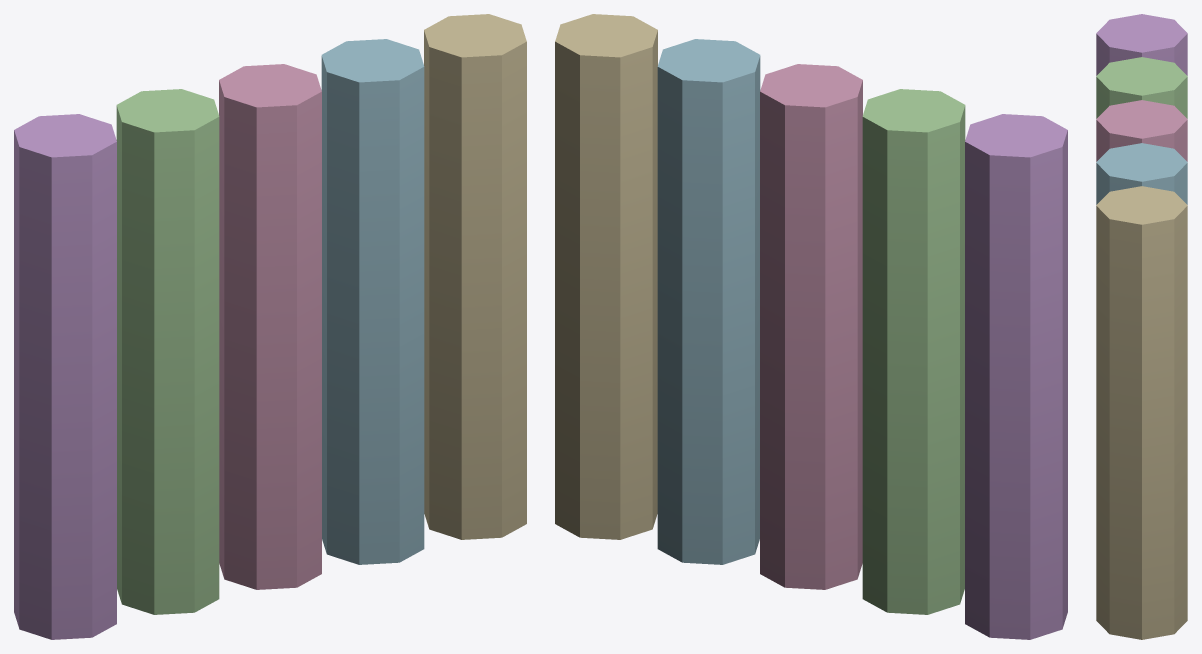
The model's file is FabricBolts.fbx.
3 views of the same model, side by side, from view 1: azimuth 30°, elevation 25°; view 2: azimuth 150°, elevation 25°; view 3: azimuth 270°, elevation 25° (orthographic). The views are drawn at different scales.
Parts seen in each view (by area): view 1: Prop_FabricBolts; view 2: Prop_FabricBolts; view 3: Prop_FabricBolts.
Part boxes in pixels (x1,y1,x2,y2): Prop_FabricBolts: (14, 14, 526, 639); Prop_FabricBolts: (555, 14, 1067, 639); Prop_FabricBolts: (1096, 14, 1187, 639).
Bounding box in the file's own units: 0.98 × 0.9 × 0.18.
